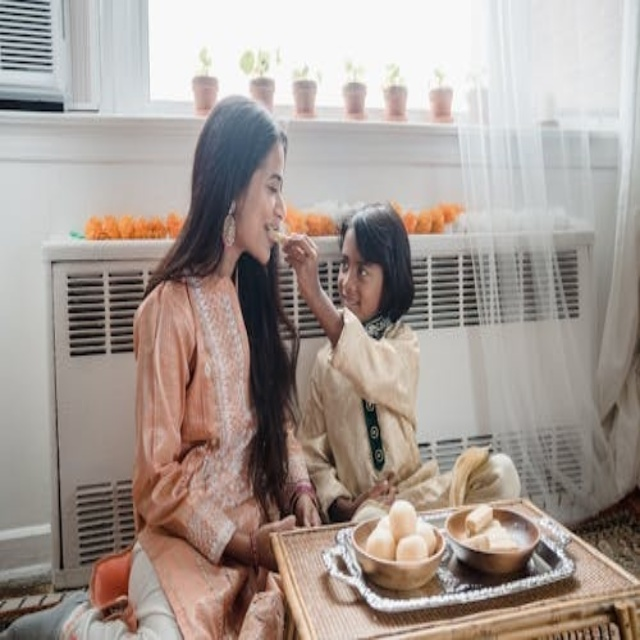Sin_gafas: (337, 240, 379, 284), (246, 163, 287, 200)
Sin_guantes: (280, 223, 324, 292), (248, 515, 298, 571)
Sin_mascara: (253, 211, 285, 252), (337, 286, 366, 313)
